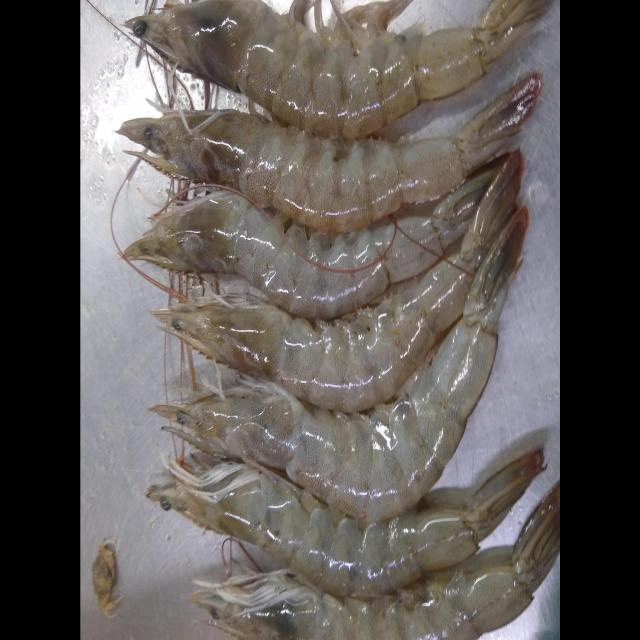shrimp: (149, 319, 497, 521), (116, 74, 541, 233), (144, 451, 544, 598), (124, 0, 548, 138), (123, 167, 495, 319), (189, 488, 560, 640), (151, 254, 475, 412)
